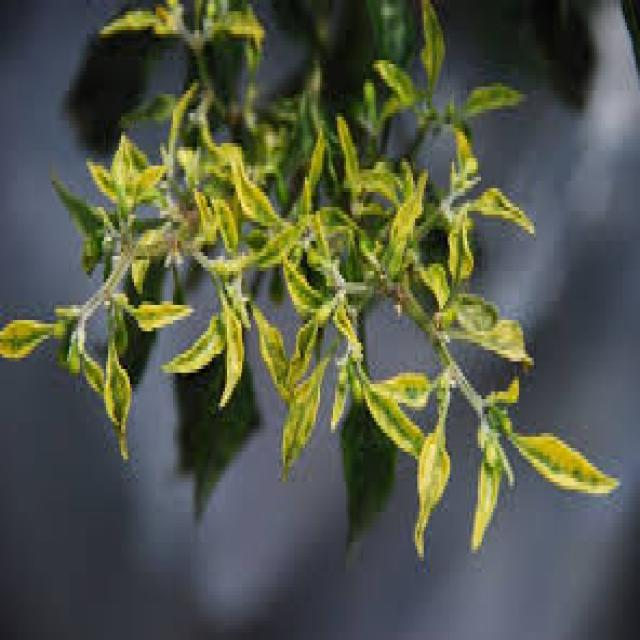Rust: (0, 0, 610, 576)
